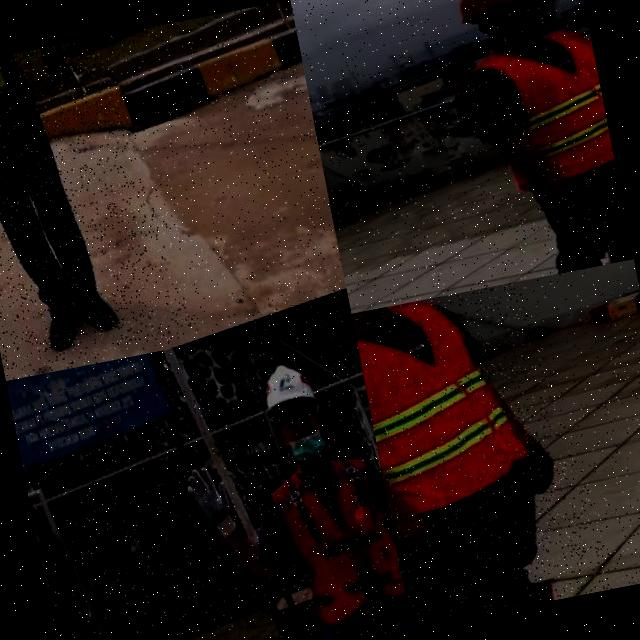boots: (464, 566, 619, 618), (72, 280, 128, 344), (36, 294, 90, 358)
helmet: (251, 354, 323, 422), (438, 0, 568, 29)
vest: (352, 286, 538, 536), (441, 16, 618, 208), (260, 438, 412, 640), (0, 50, 44, 117)
